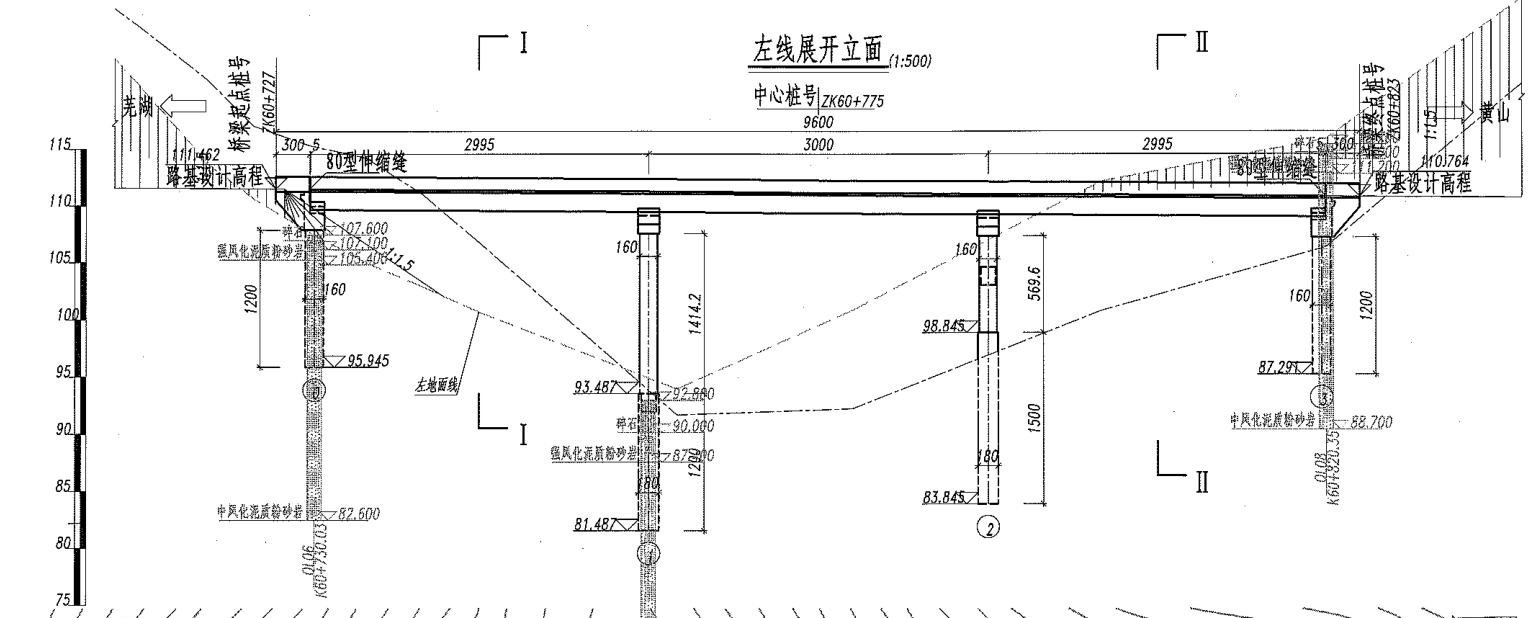A: (269, 109, 1355, 139)
C: (558, 202, 679, 574), (909, 202, 1019, 547), (1245, 201, 1344, 419)
